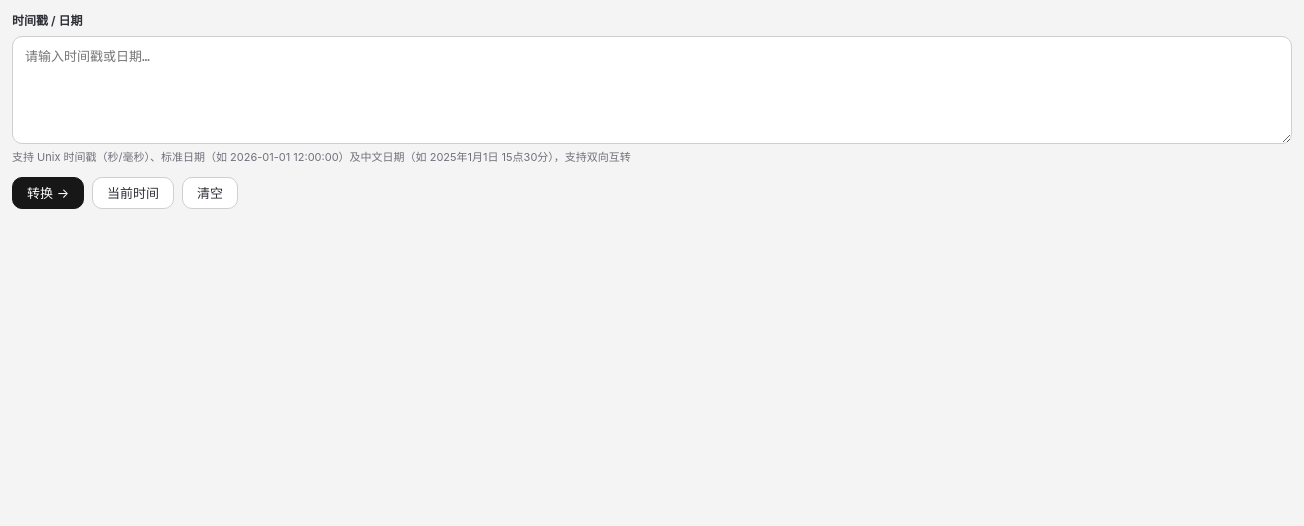
Test: TimestampTool 当前时间 › 「当前时间」用系统时间填充并立即转换（固定时钟）
The width and height of the screenshot is (1304, 526).
Click the button "当前时间": (133,193) [92,177,174,209]
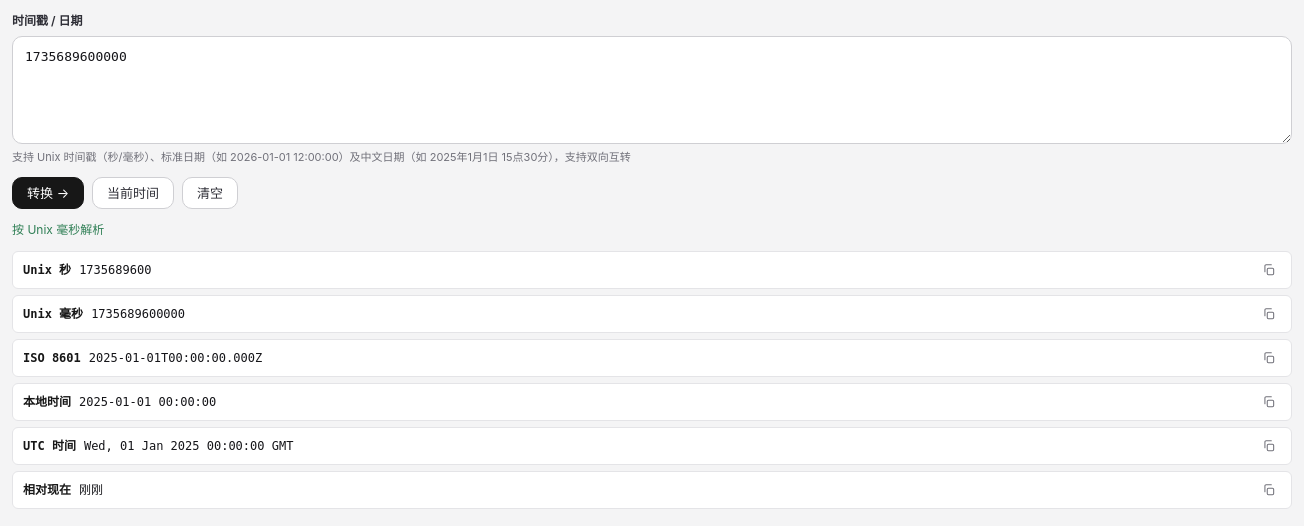
Check: the text box holds "1735689600000", box [12,36,1292,144]
Check: the message with class "tw-status--ok" reads "按 Unix 毫秒解析", box [12,222,104,237]
